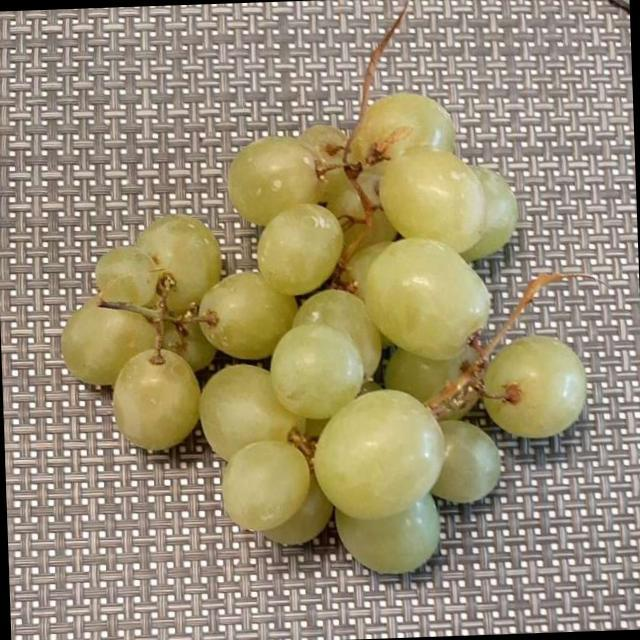Grapes: (47, 60, 609, 590)
